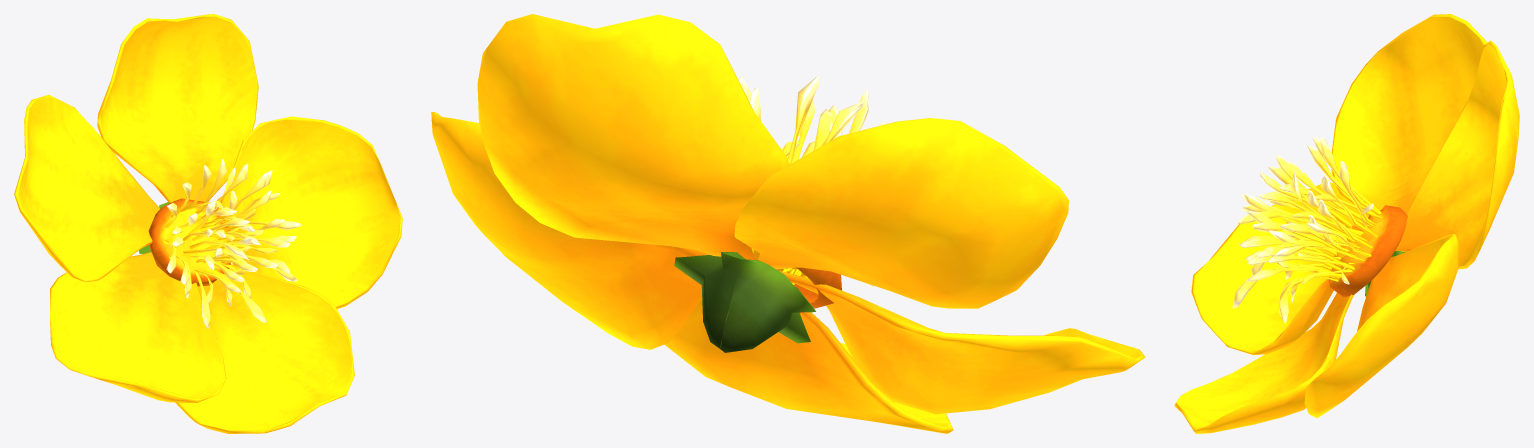
The model's file is mdl_paprika_flower.gltf.
3 renders of one model, left to right at view 1: azimuth 30°, elevation 25°; view 2: azimuth 150°, elevation 25°; view 3: azimuth 270°, elevation 25°, orthographic. The views are drawn at different scales.
Visible parts, largest first — view 1: Object_6; view 2: Object_6; view 3: Object_6.
Part boxes in pixels (x1,y1,x2,y2): Object_6: (14,14,402,433); Object_6: (431,14,1145,433); Object_6: (1174,14,1519,433).
Bounding box in the file's own units: 2.47 × 2.01 × 1.72.
1 material, 1 textured.
